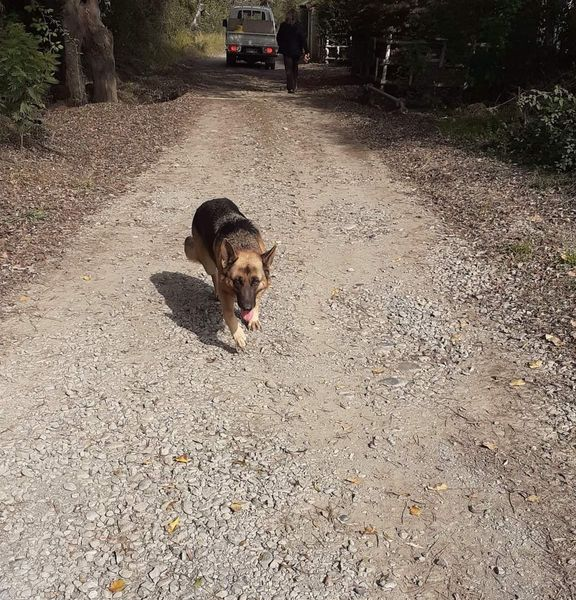dog: (176, 191, 285, 358)
